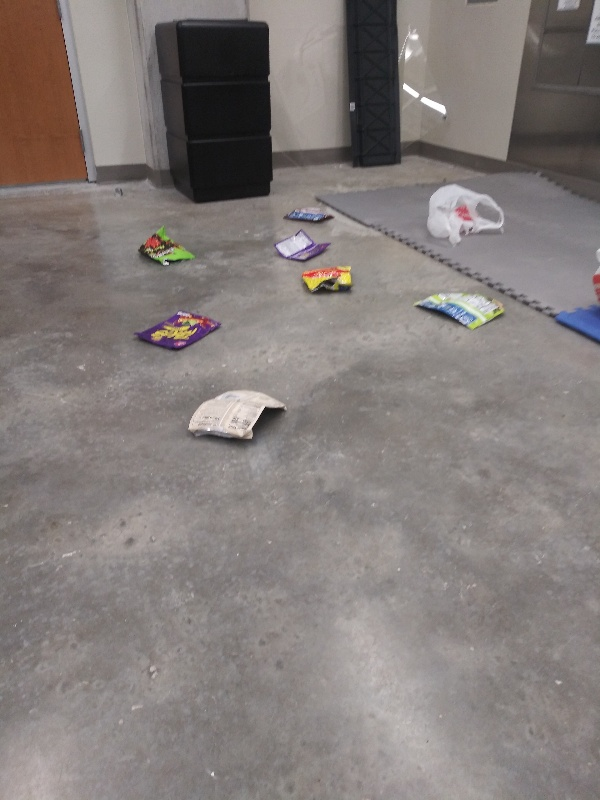bag: (180, 383, 294, 443), (128, 307, 228, 357), (407, 287, 510, 334), (137, 222, 201, 270), (270, 227, 335, 264), (299, 263, 356, 298), (281, 201, 340, 225)
